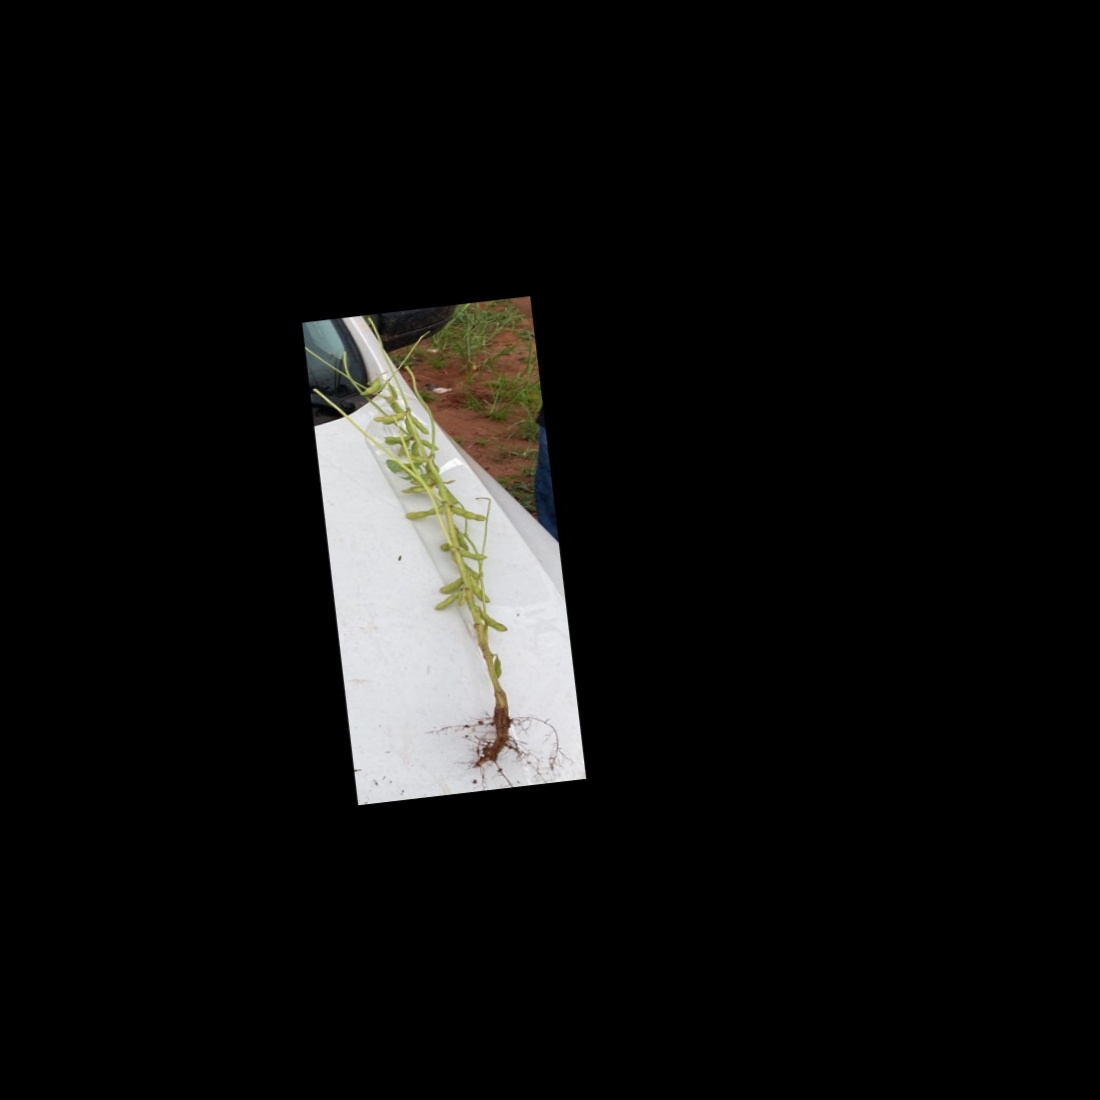pod: (446, 497, 490, 528), (477, 600, 516, 636), (430, 590, 463, 613), (458, 543, 488, 566), (403, 505, 439, 522), (437, 575, 466, 595), (491, 654, 505, 680)
soy: (353, 329, 527, 770)
